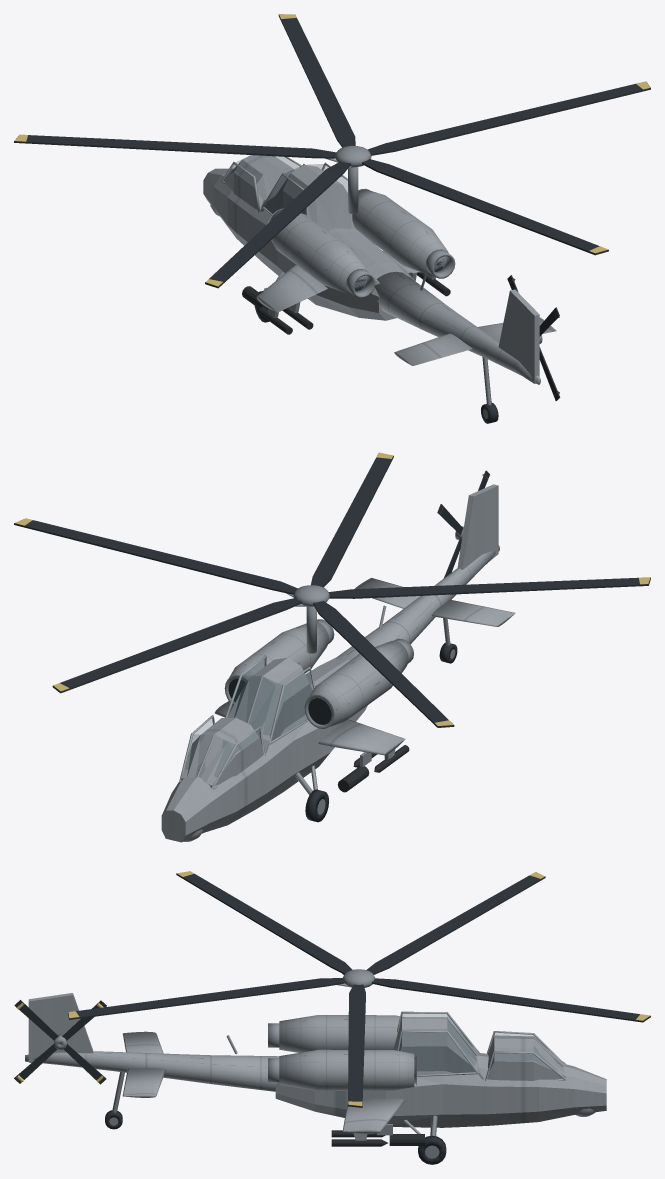
The model's file is wings_mi28n.glb.
The picture shows the model from 3 angles, top to bottom: view 1: azimuth 30°, elevation 25°; view 2: azimuth 150°, elevation 25°; view 3: azimuth 270°, elevation 25°; orthographic projection. The views are drawn at different scales.
Visible parts, largest first — view 1: airframe_static, main_rotor_blade_assembly, tail_rotor_blade_assembly; view 2: airframe_static, main_rotor_blade_assembly, tail_rotor_blade_assembly, main_wheel_L; view 3: airframe_static, main_rotor_blade_assembly, tail_rotor_blade_assembly, main_wheel_R.
Part boxes in pixels (bbox=[...]): airframe_static: bbox=[203, 155, 556, 405]; main_rotor_blade_assembly: bbox=[14, 14, 650, 288]; tail_rotor_blade_assembly: bbox=[507, 275, 560, 400]; airframe_static: bbox=[161, 484, 515, 842]; main_rotor_blade_assembly: bbox=[14, 452, 650, 727]; tail_rotor_blade_assembly: bbox=[437, 470, 489, 578]; main_wheel_L: bbox=[305, 789, 328, 822]; airframe_static: bbox=[25, 993, 606, 1140]; main_rotor_blade_assembly: bbox=[68, 871, 650, 1107]; tail_rotor_blade_assembly: bbox=[14, 1000, 106, 1084]; main_wheel_R: bbox=[418, 1135, 446, 1164].
Size of the model in its own units: 15.66 by 5.31 by 17.91.
Materials: 6 (1 with a texture image).
